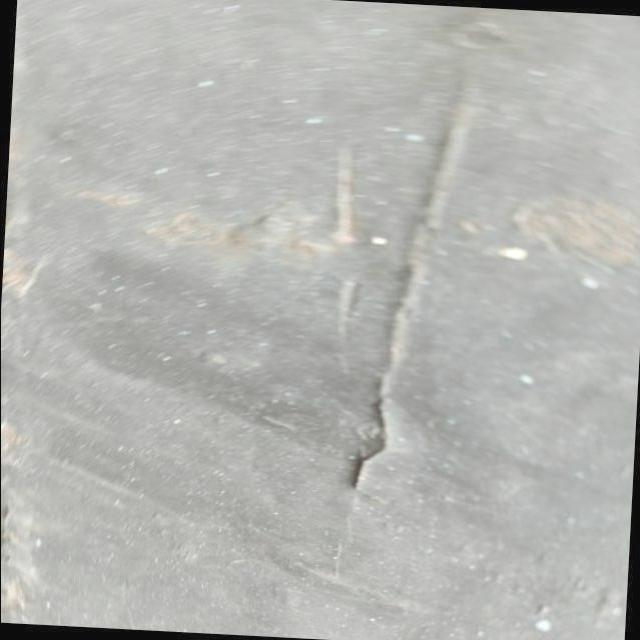defect: (347, 78, 471, 496)
